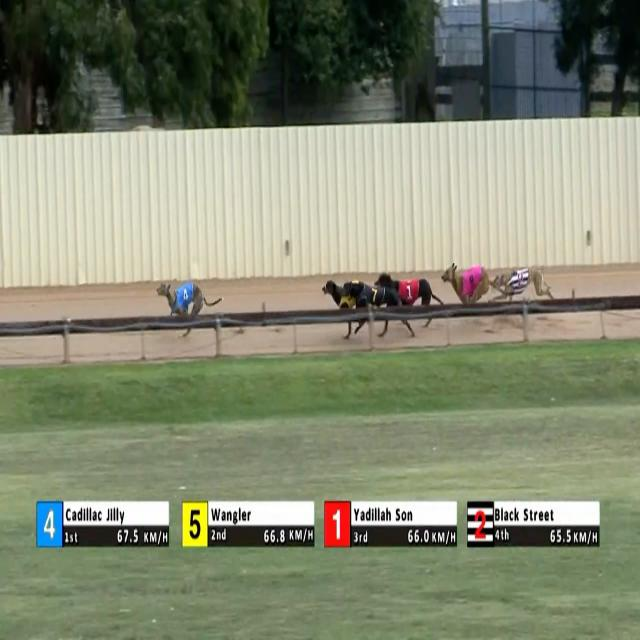dog_eight: (464, 267, 481, 300)
dog_five: (342, 282, 358, 308)
dog_four: (176, 280, 195, 312)
dog_one: (399, 282, 416, 305)
dog_seven: (368, 286, 382, 306)
dog_two: (512, 268, 528, 294)
rail: (0, 292, 640, 340)
